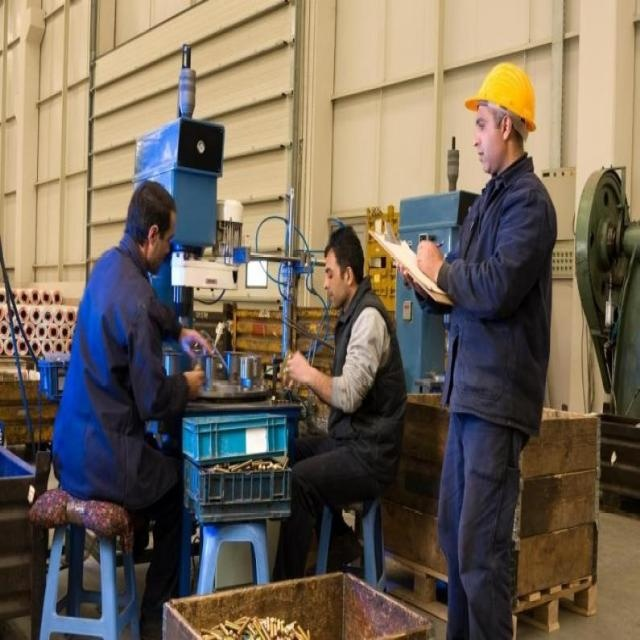Con_Casco: (468, 62, 535, 162)
Sin_Casco_Mascarrilla: (124, 181, 176, 262), (323, 225, 365, 304)
